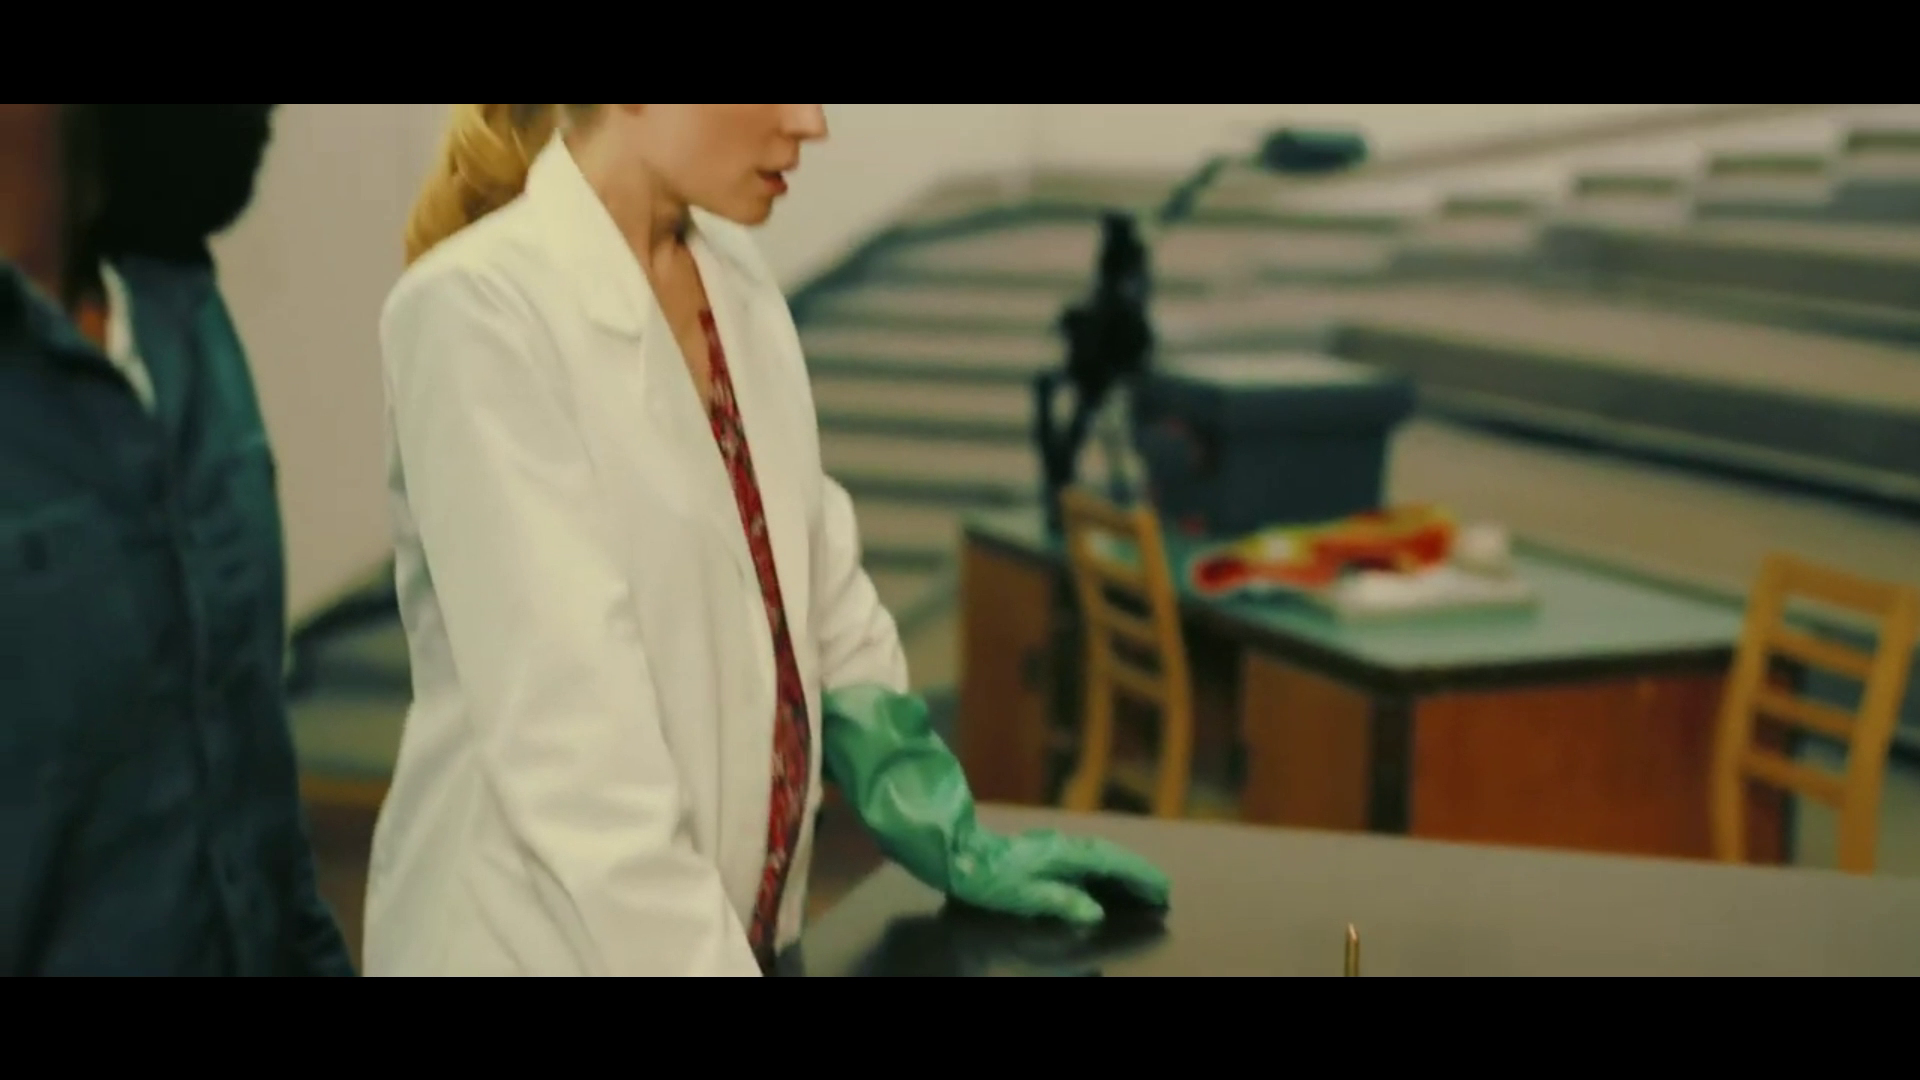Bullet: (1338, 922, 1361, 975)
